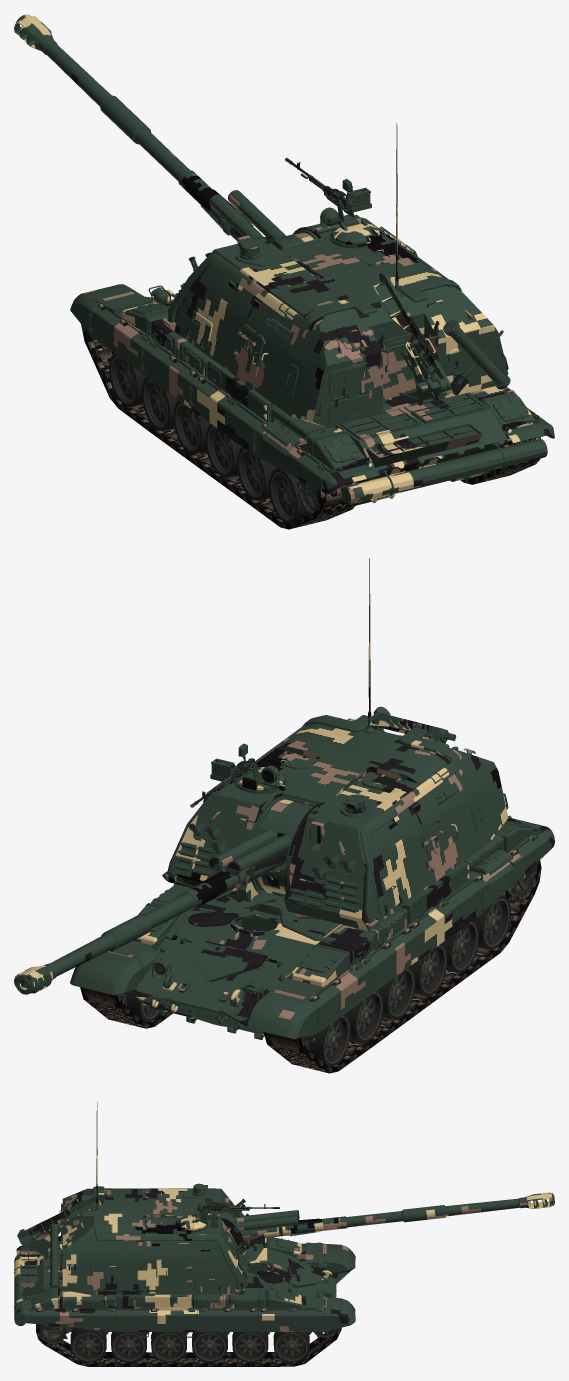
3 views of the same model, one above another, from view 1: azimuth 30°, elevation 25°; view 2: azimuth 150°, elevation 25°; view 3: azimuth 270°, elevation 25° (orthographic). The views are drawn at different scales.
Parts seen in each view (by area): view 1: Object_10, Object_8, Object_11, Object_14, Object_12, Object_13; view 2: Object_10, Object_8, Object_11, Object_14, Object_12, Object_13, Object_7, Object_9; view 3: Object_10, Object_8, Object_14, Object_11, Object_12, Object_13.
Boxes of the visible parts, box(x1,y1,x2,y2) form: Object_10: box(162, 123, 510, 427); Object_8: box(70, 284, 554, 505); Object_11: box(14, 14, 285, 241); Object_14: box(141, 377, 480, 522); Object_12: box(81, 324, 540, 529); Object_13: box(91, 336, 535, 517); Object_10: box(162, 558, 508, 930); Object_8: box(70, 805, 554, 1039); Object_11: box(14, 830, 290, 994); Object_14: box(346, 895, 510, 1043); Object_12: box(80, 860, 541, 1073); Object_13: box(121, 864, 536, 1066); Object_7: box(159, 770, 420, 981); Object_9: box(230, 892, 297, 922); Object_10: box(17, 1102, 279, 1302); Object_8: box(14, 1236, 355, 1337); Object_14: box(70, 1328, 268, 1362); Object_11: box(232, 1192, 554, 1240); Object_12: box(36, 1313, 341, 1366); Object_13: box(39, 1324, 336, 1362).
Size of the model in its own units: 3.62 by 5.56 by 11.61.
Materials: 9 (6 with a texture image).
